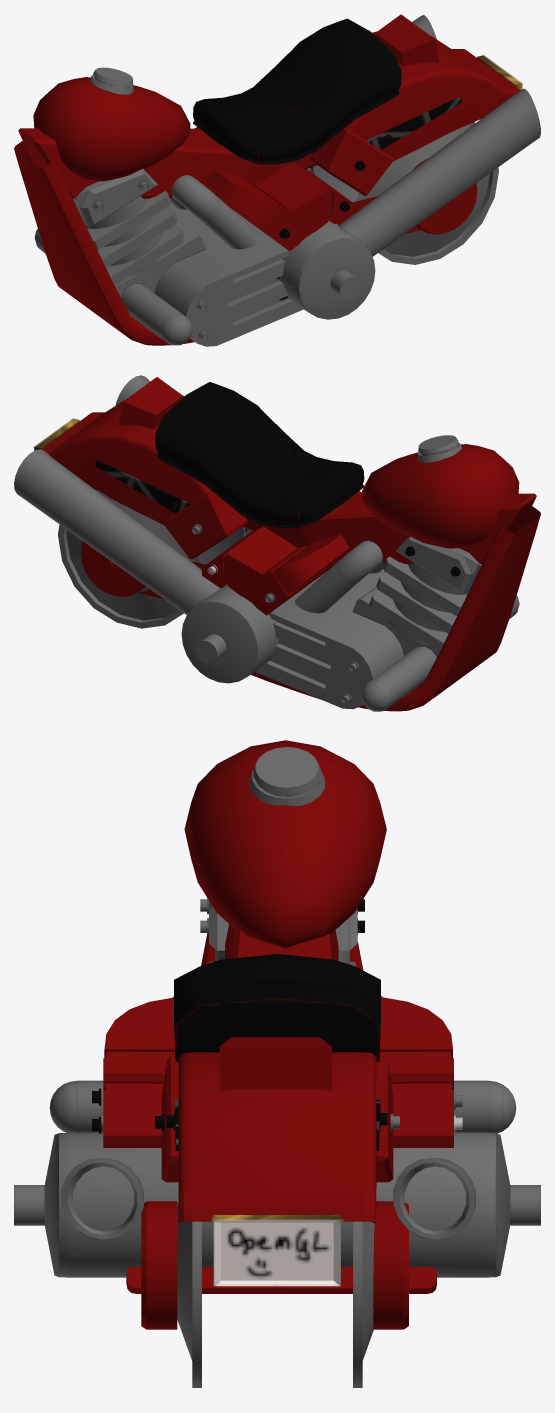
File: MoturBody.obj
3 views of the same model, one above another, from view 1: azimuth 30°, elevation 25°; view 2: azimuth 150°, elevation 25°; view 3: azimuth 270°, elevation 25° (orthographic). The views are drawn at different scales.
Parts seen in each view (by area): view 1: moto2; view 2: moto2; view 3: moto2.
Boxes of the visible parts, <box> form: moto2: <box>14,14,540,346</box>; moto2: <box>14,375,540,711</box>; moto2: <box>14,740,540,1387</box>.
Bounding box in the file's own units: 7.51 × 3.81 × 4.36.
Materials: 1 (1 with a texture image).
